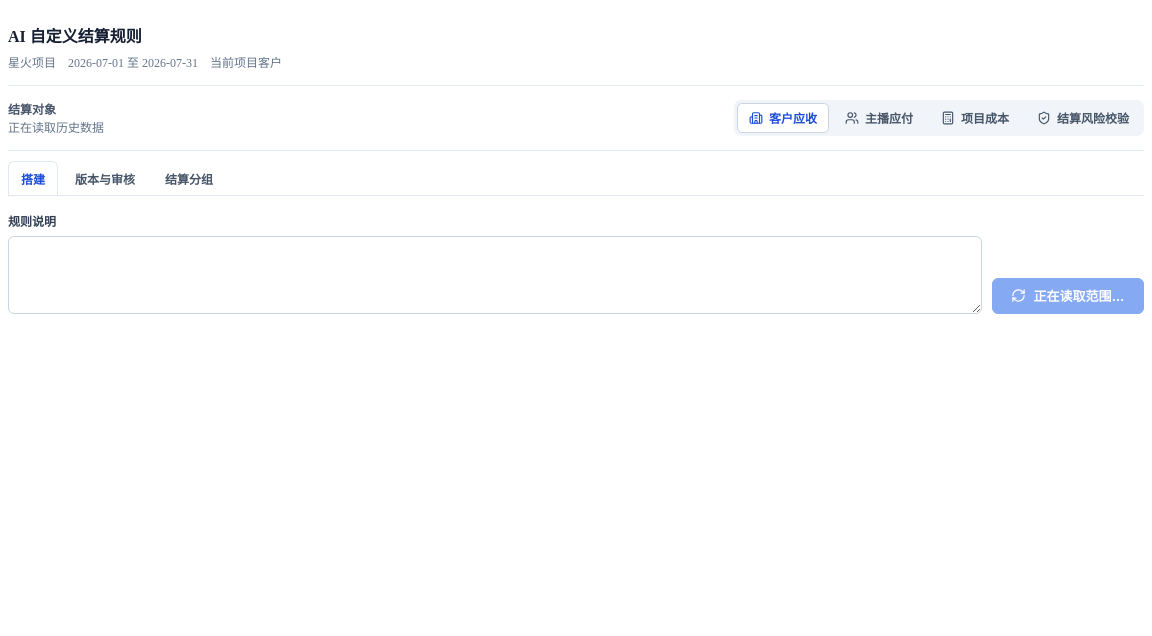
Test: CustomSettlementRuleWorkspace › uses the authoritative no-history marker after session refresh
Click the button "主播应付" at [879, 118], box [833,103,925,133]
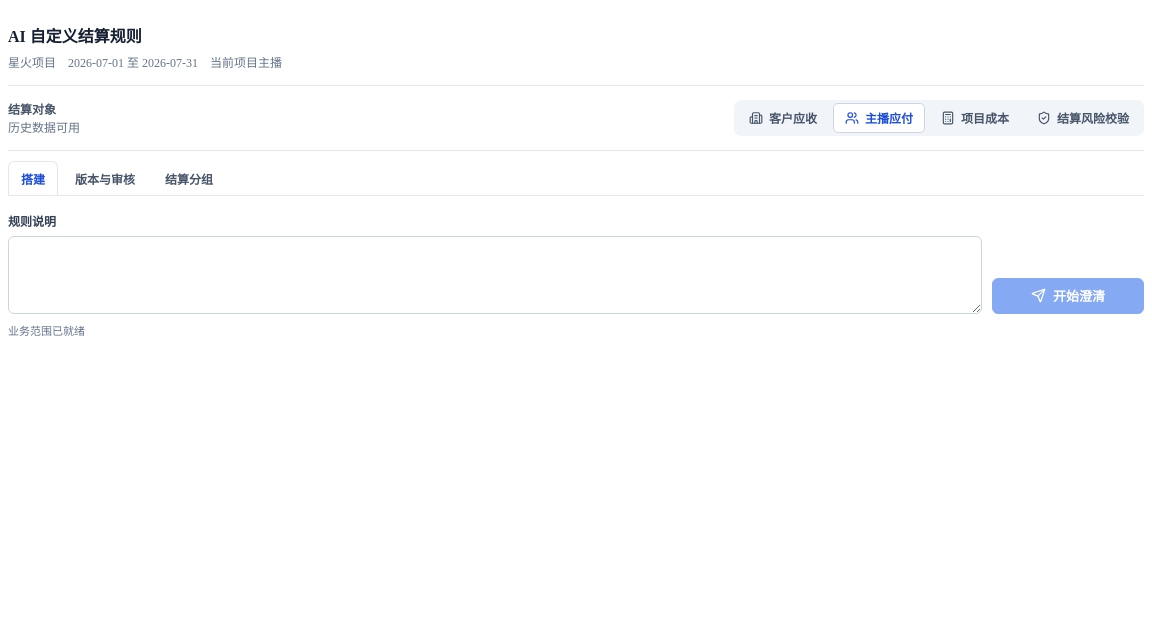
Type "每场按直播时长和单价结算" into the text box labelled "规则说明" at [495, 275], box [8,236,982,314]
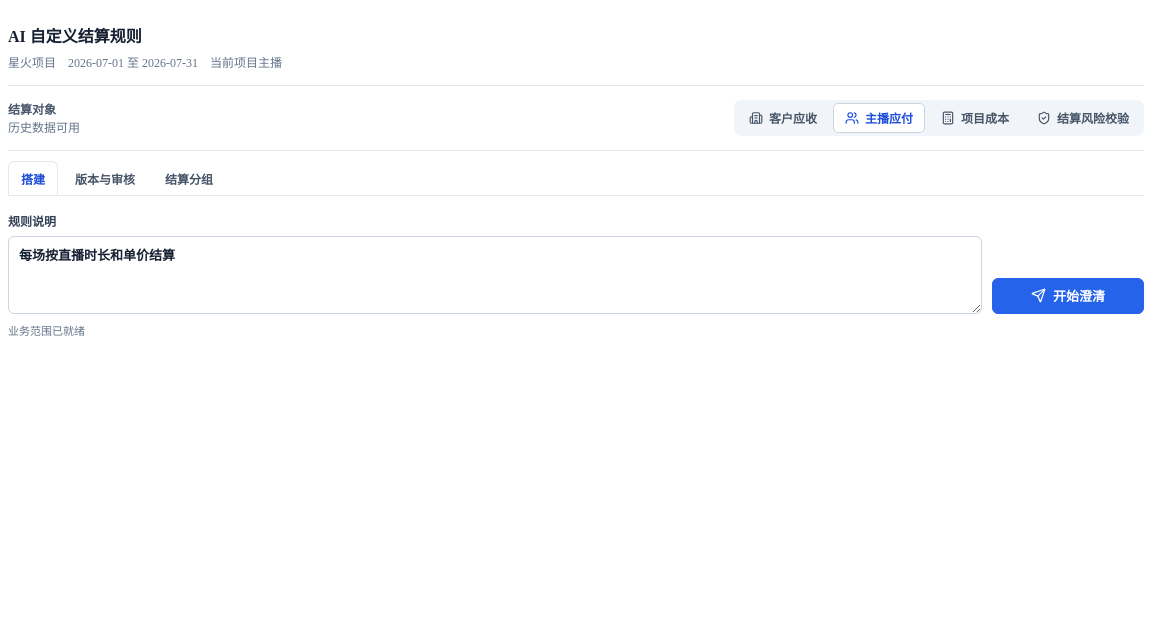
Click the button "开始澄清" at [1068, 296], box [992,278,1144,314]
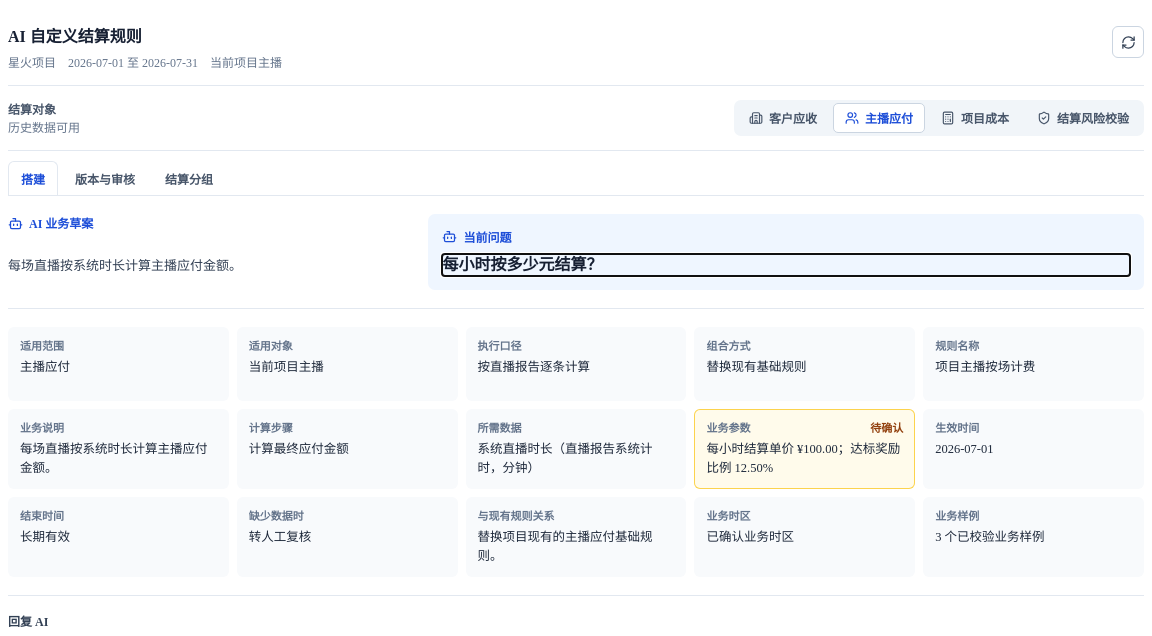
Check: the heading "每小时按多少元结算？" is shown, box [442,256,602,273]
Click the button named "刷新会话" at [1128, 42], box [1112,26,1144,58]
(page scrolled)
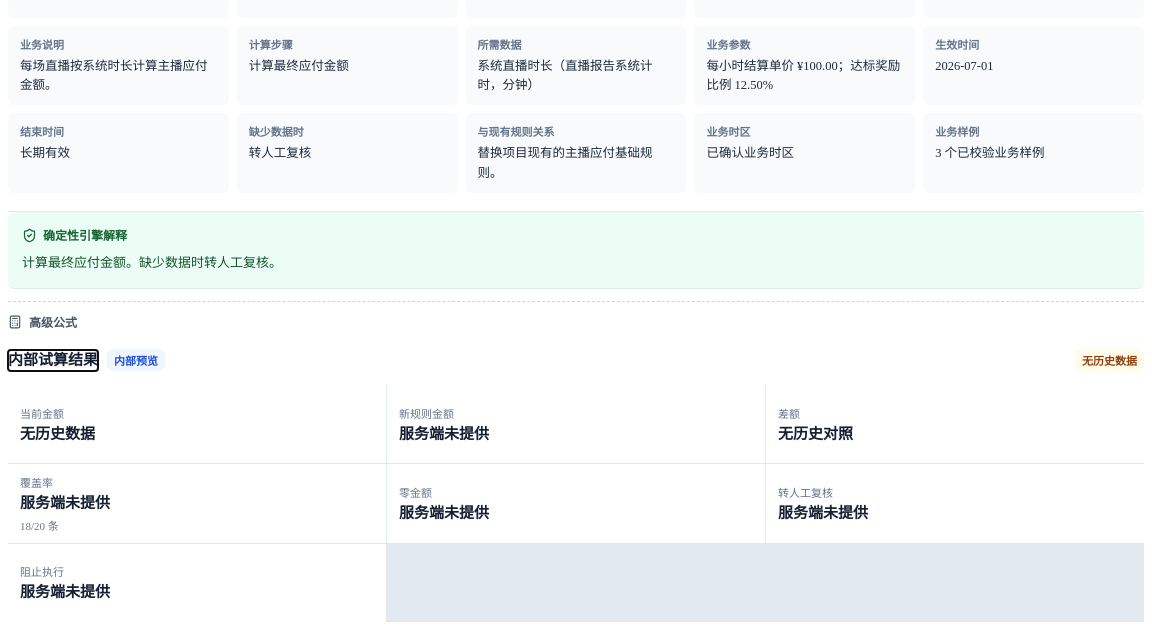
Check: the element "内部试算" shows "无历史数据", box [1082,355,1137,367]
